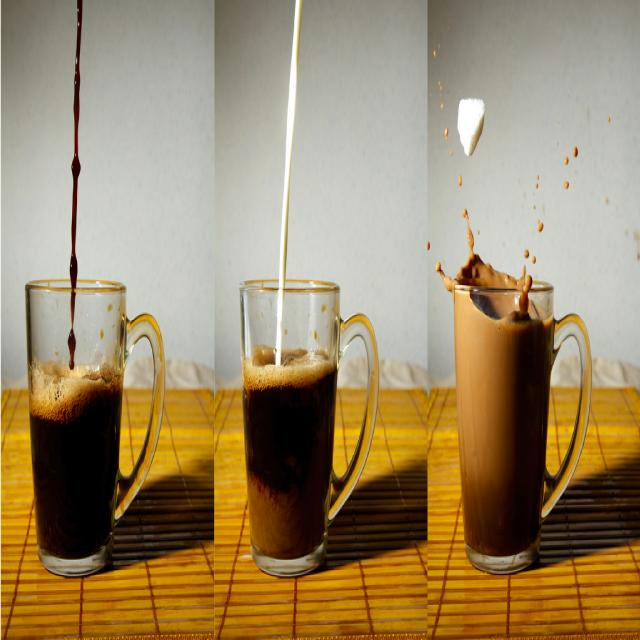Coffee: (433, 215, 556, 557), (235, 272, 362, 580), (28, 356, 122, 560)
